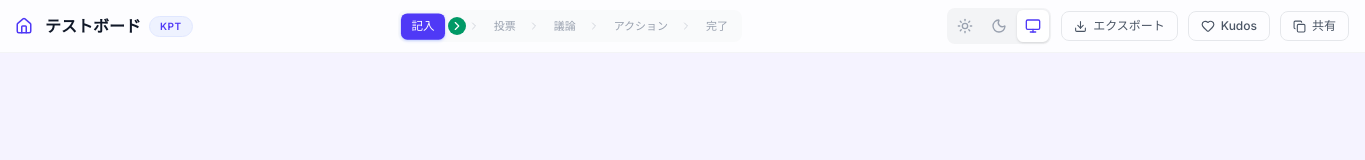
it: BoardHeader › clicking share button copies URL to clipboard and shows "コピー済み"
// Click the share button (initially shows "共有")
Click the button "共有" at (1314, 26), box [1280,11,1349,41]
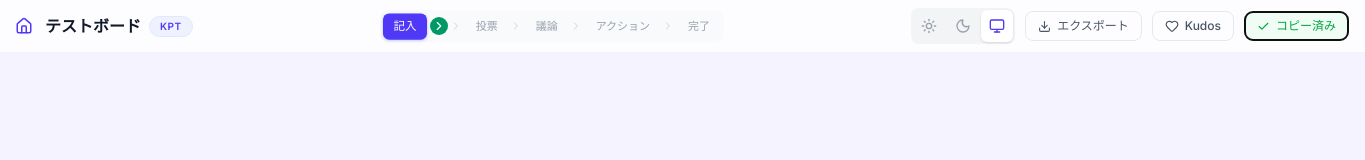
Check: the text "コピー済み" is shown, box [1276,18,1336,34]
